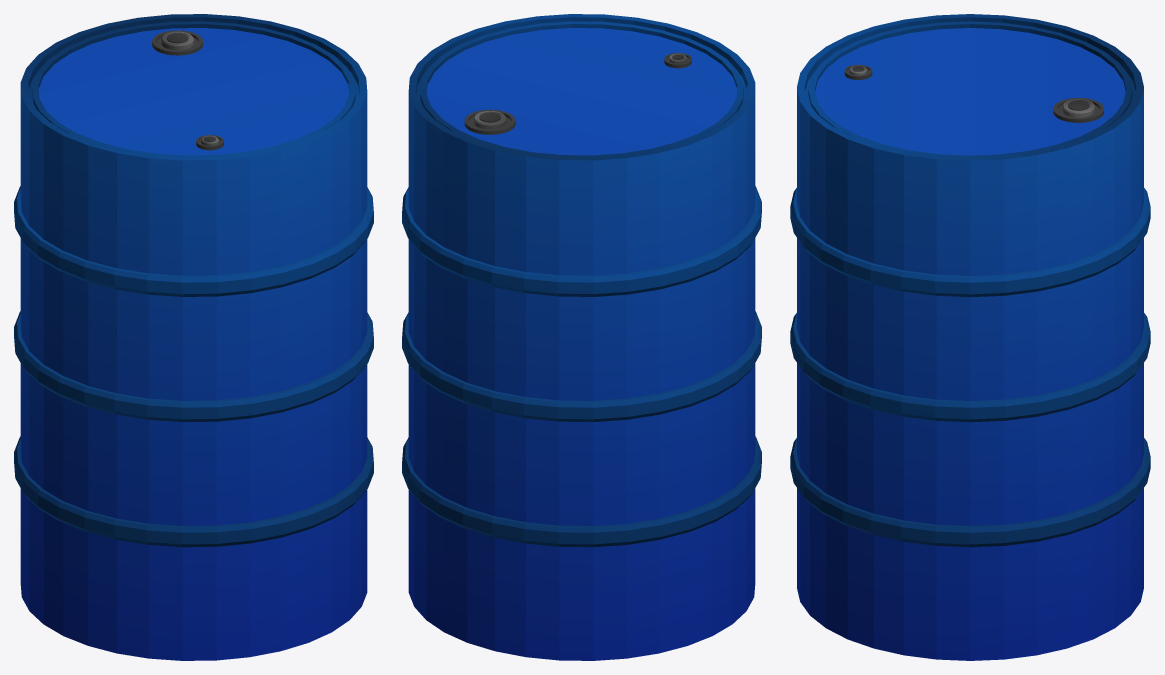
The model's file is Industrial Barrel Blue.fbx.
3 renders of one model, left to right at view 1: azimuth 30°, elevation 25°; view 2: azimuth 150°, elevation 25°; view 3: azimuth 270°, elevation 25°, orthographic.
Parts seen in each view (by area): view 1: Industrial Barrel #1; view 2: Industrial Barrel #1; view 3: Industrial Barrel #1.
Boxes of the visible parts, <box> form: Industrial Barrel #1: <box>14,14,373,660</box>; Industrial Barrel #1: <box>402,14,761,660</box>; Industrial Barrel #1: <box>790,14,1150,660</box>.
Bounding box in the file's own units: 429 × 280 × 280.
Materials: 1 (1 with a texture image).
